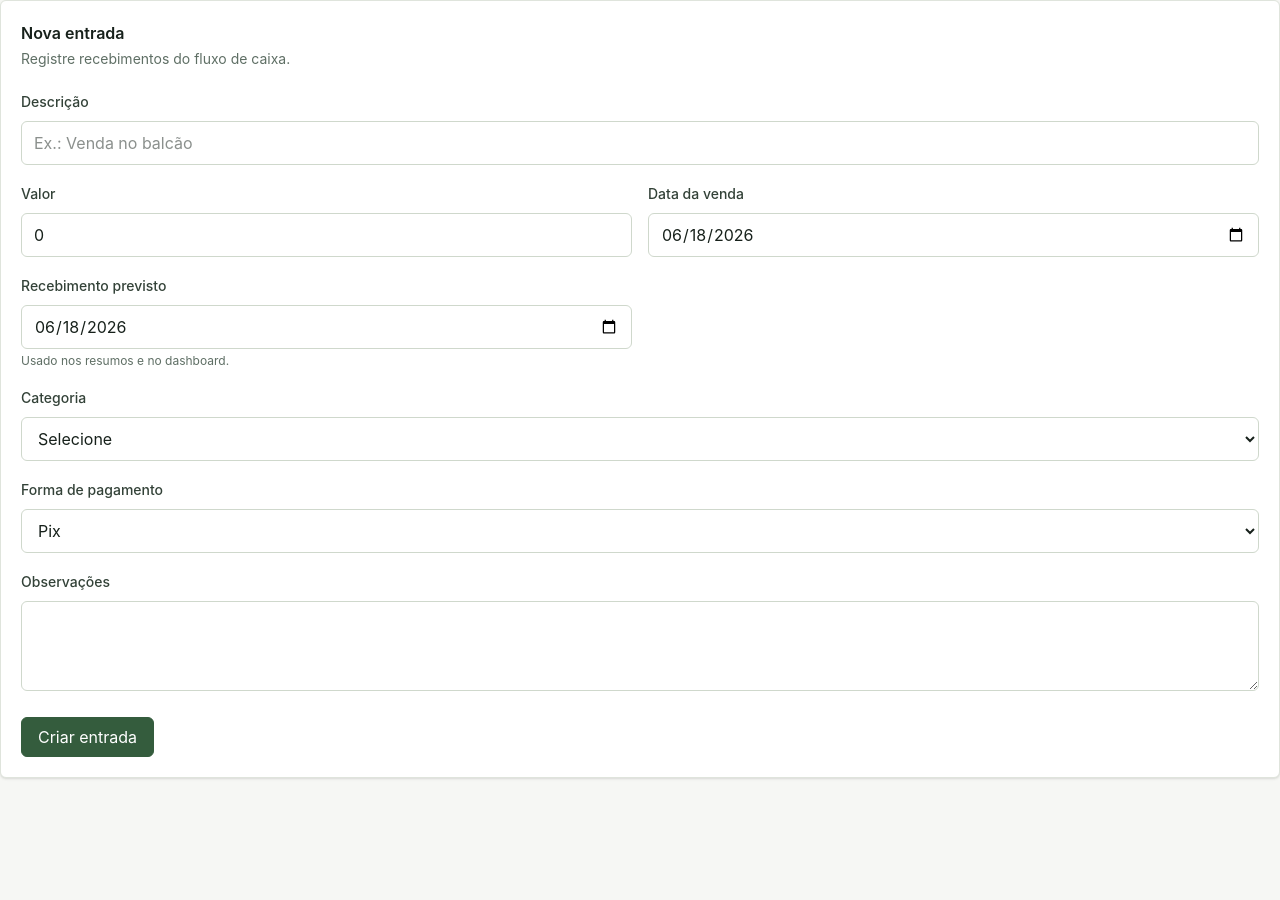
CashEntryForm › defaults expected receipt date to the sale date when sale date changes
Type "2026-06-08" into the date field labelled "Data da venda". click: (954, 235)
box: [648,213,1259,257]
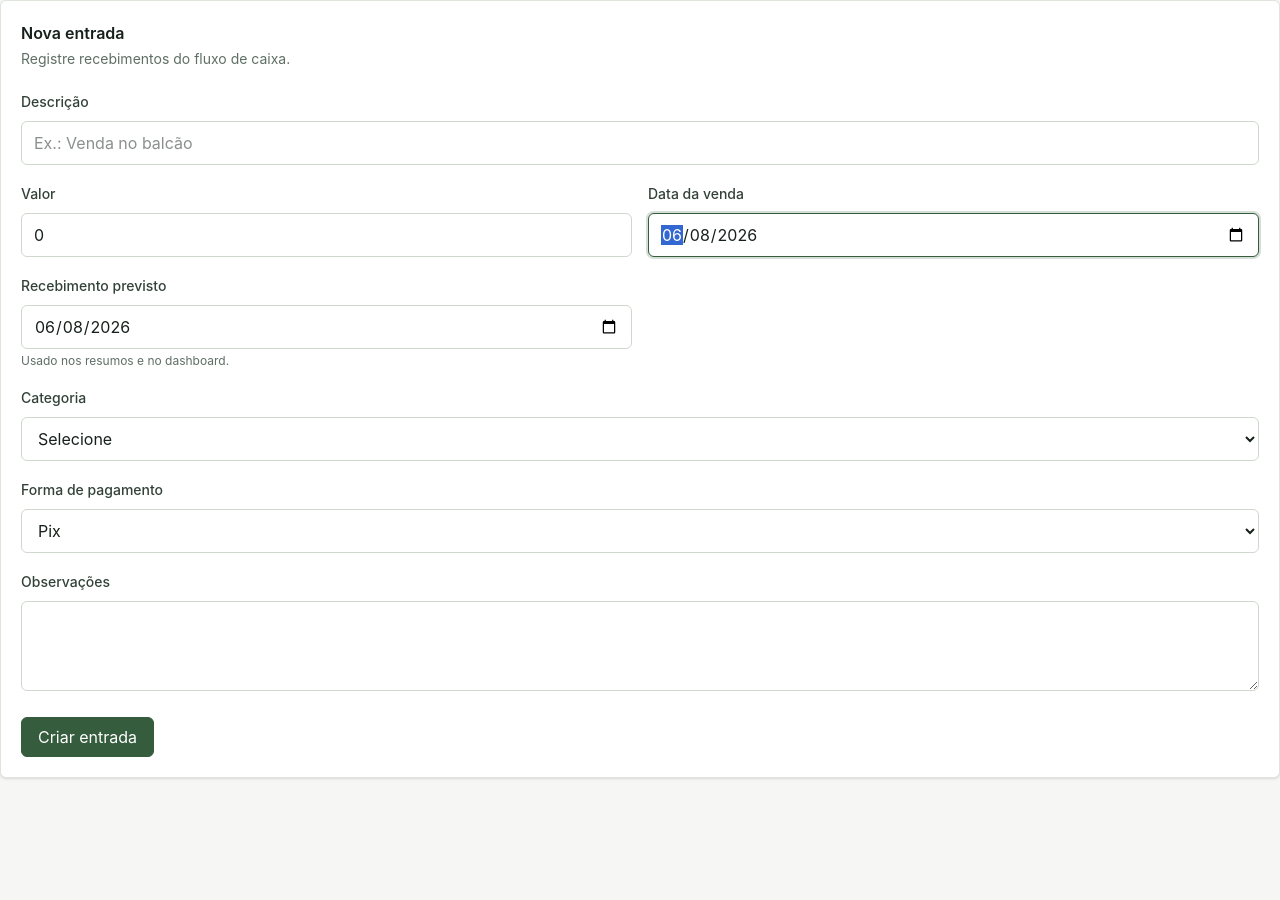
Now the date field labelled "Recebimento previsto" holds "2026-06-08", box [21,305,632,349]
